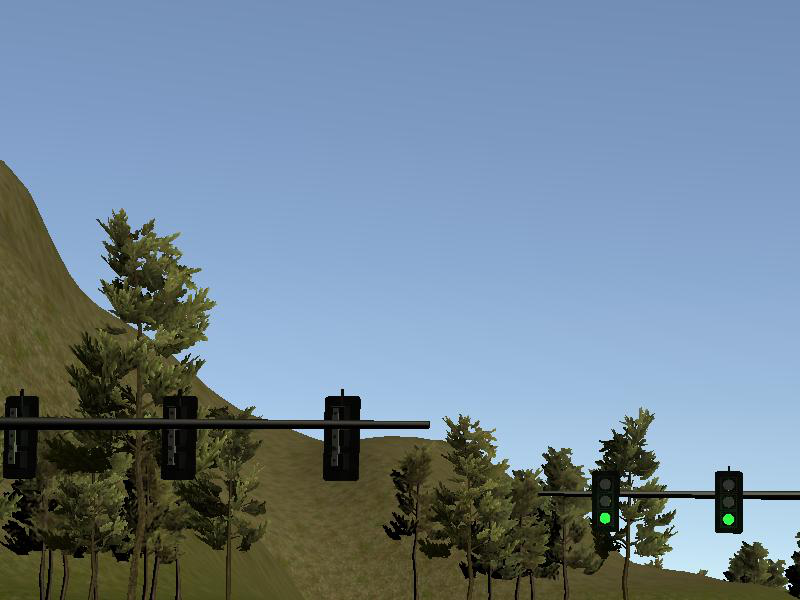green: (593, 468, 620, 532), (716, 469, 743, 533)
